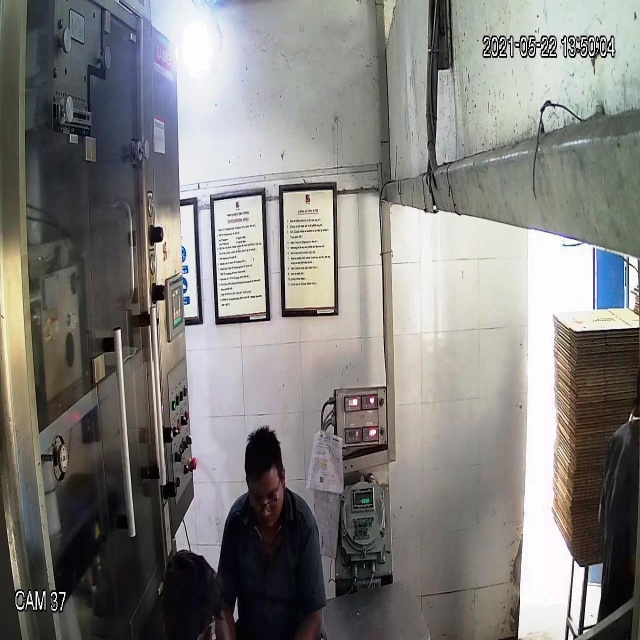Gafas: (245, 487, 284, 520)
